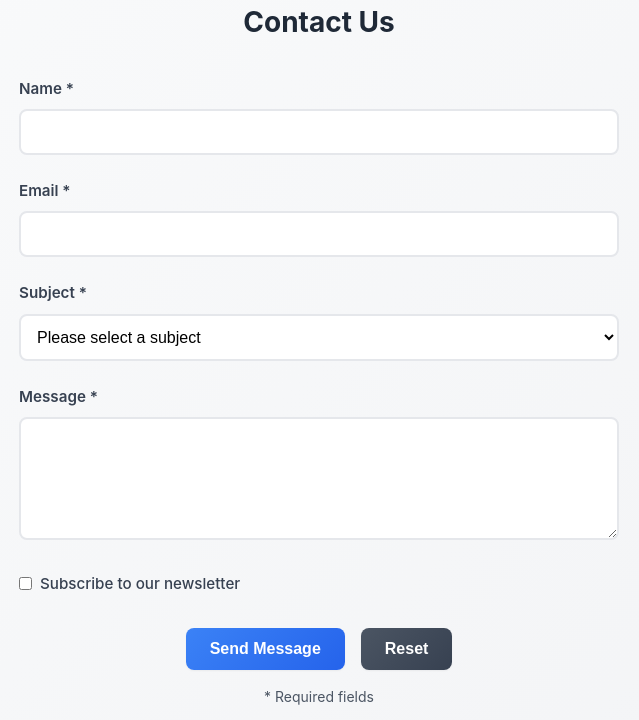
Test: Lesson 2: ContactForm Component - Forms & Async Testing › Reset Functionality › resets form when reset button is clicked
The width and height of the screenshot is (639, 720).
Fill out form
Type "Reset Test" into the field labelled "Name *" at coordinates (319, 132), box [19, 109, 619, 155]
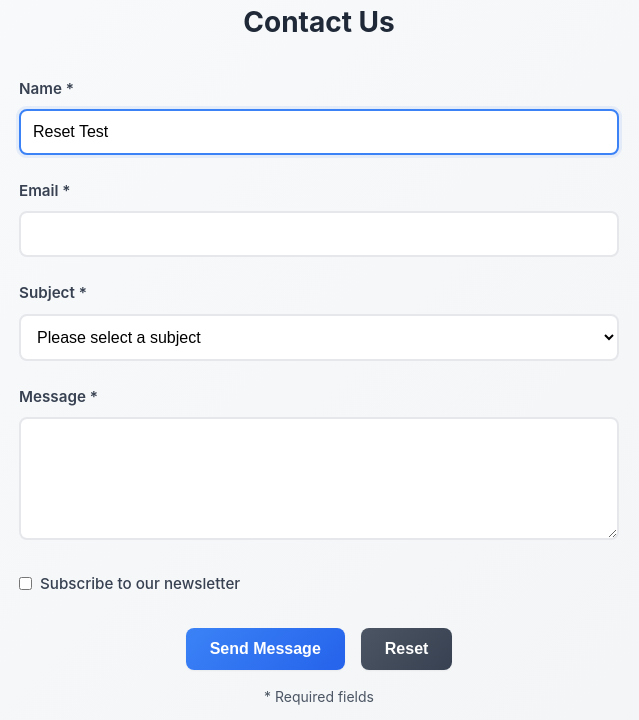
Type "reset@example.com" into the field labelled "Email *" at coordinates (319, 234), box [19, 211, 619, 257]
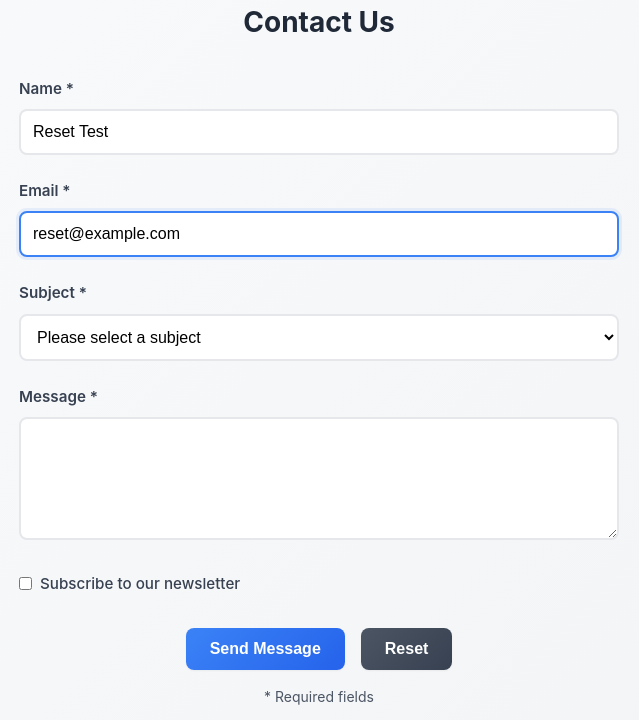
Click the checkbox labelled "Subscribe to our newsletter" at coordinates (26, 584), box [19, 577, 32, 590]
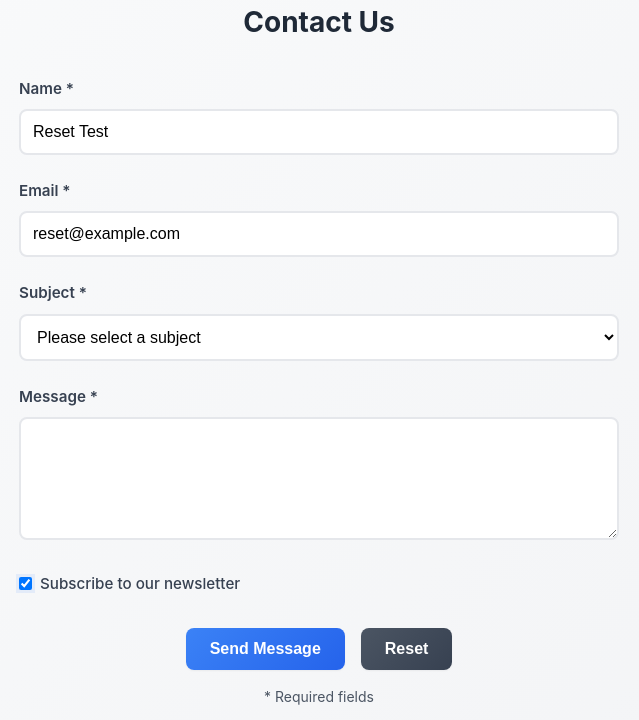
Now the checkbox labelled "Subscribe to our newsletter" is checked, box [19, 577, 32, 590]
Click reset
Click the button "Reset" at coordinates (407, 649), box [361, 628, 452, 670]
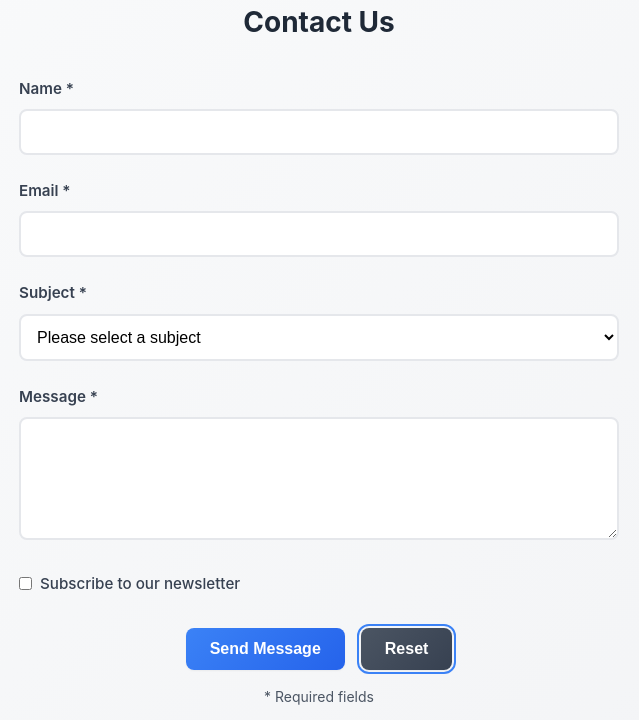
Now the checkbox labelled "Subscribe to our newsletter" is not checked, box [19, 577, 32, 590]
Now the field labelled "Name *" is empty, box [19, 109, 619, 155]
Now the field labelled "Email *" is empty, box [19, 211, 619, 257]
